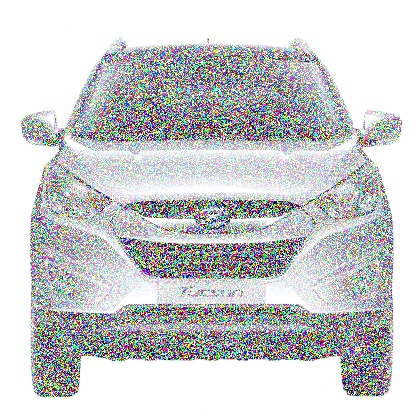Vehicle: (21, 38, 400, 401)
